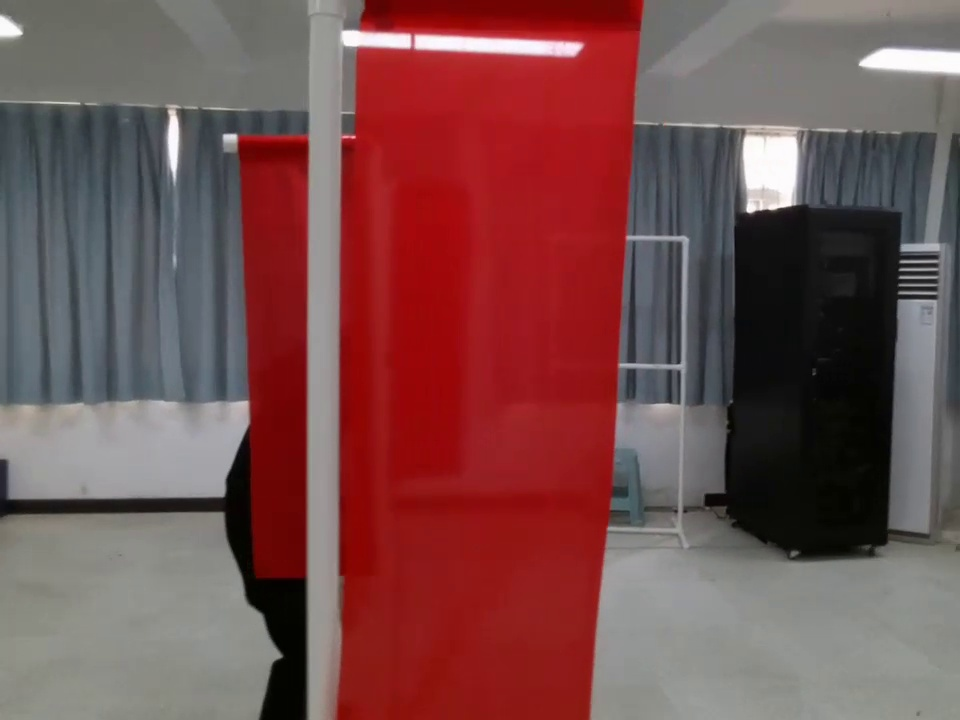qi: (300, 2, 631, 720)
